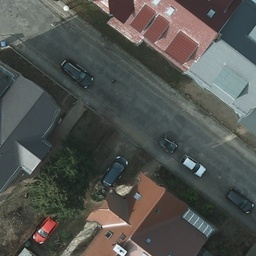car: (60, 59, 95, 91), (225, 188, 255, 216), (104, 154, 127, 189), (154, 130, 179, 156), (180, 154, 205, 179), (33, 218, 58, 242)
